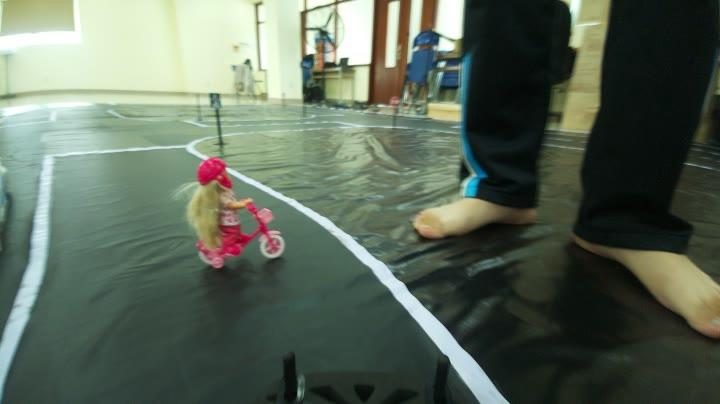pedestrian: (175, 148, 292, 280)
